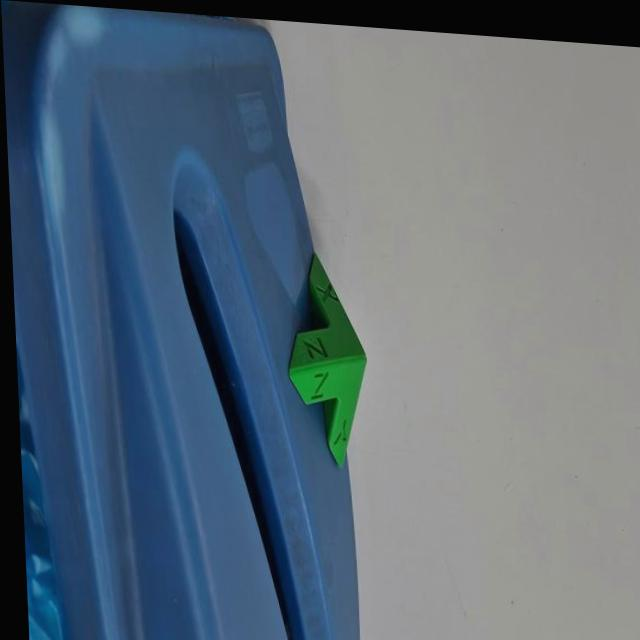eje: (281, 249, 372, 473)
